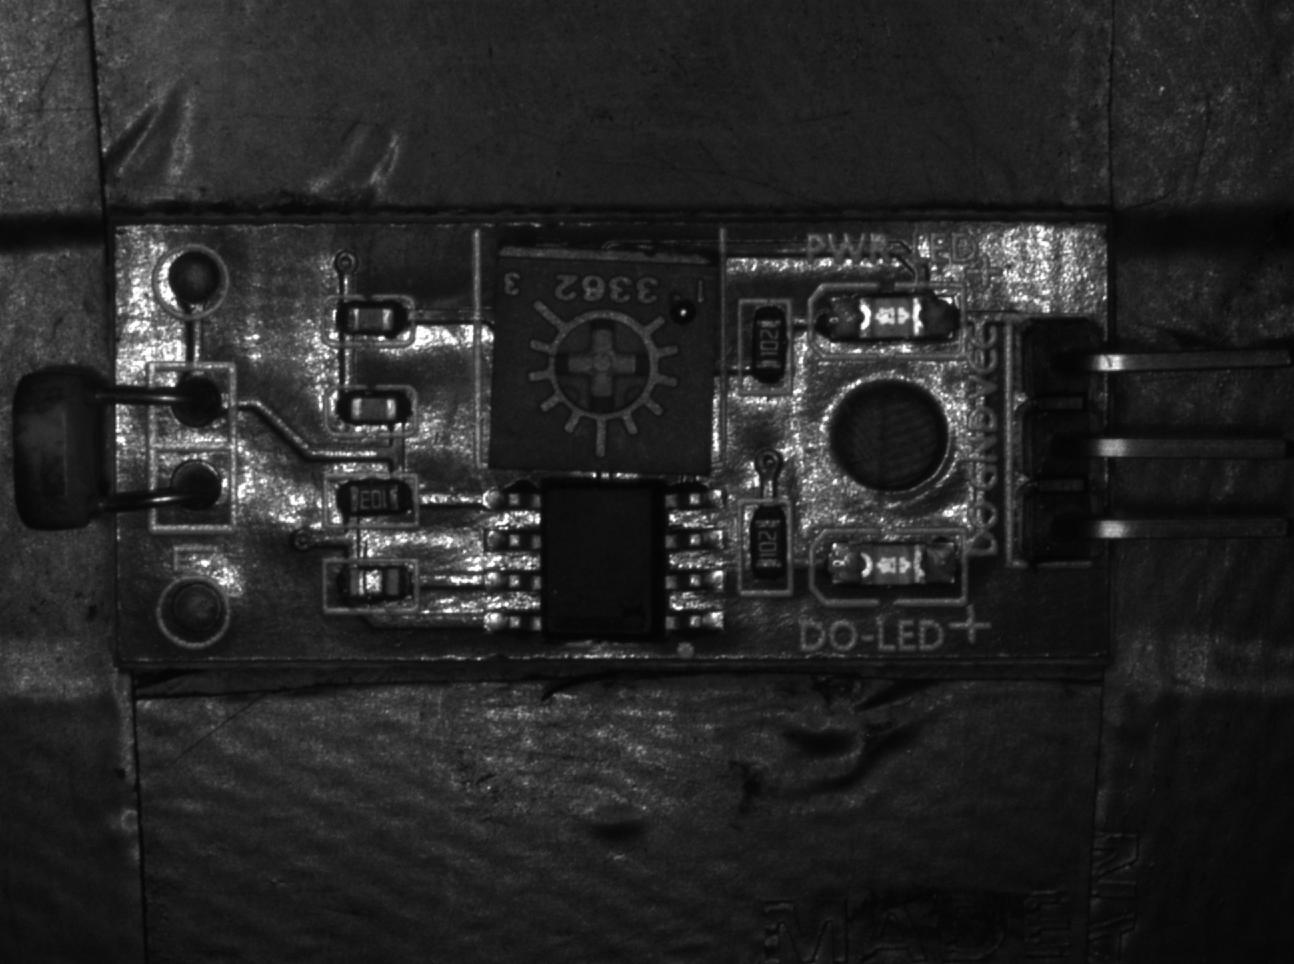miss: (325, 554, 419, 610)
ok: (326, 471, 419, 534), (740, 300, 795, 395), (326, 389, 416, 436), (743, 501, 789, 594), (326, 298, 415, 344)
